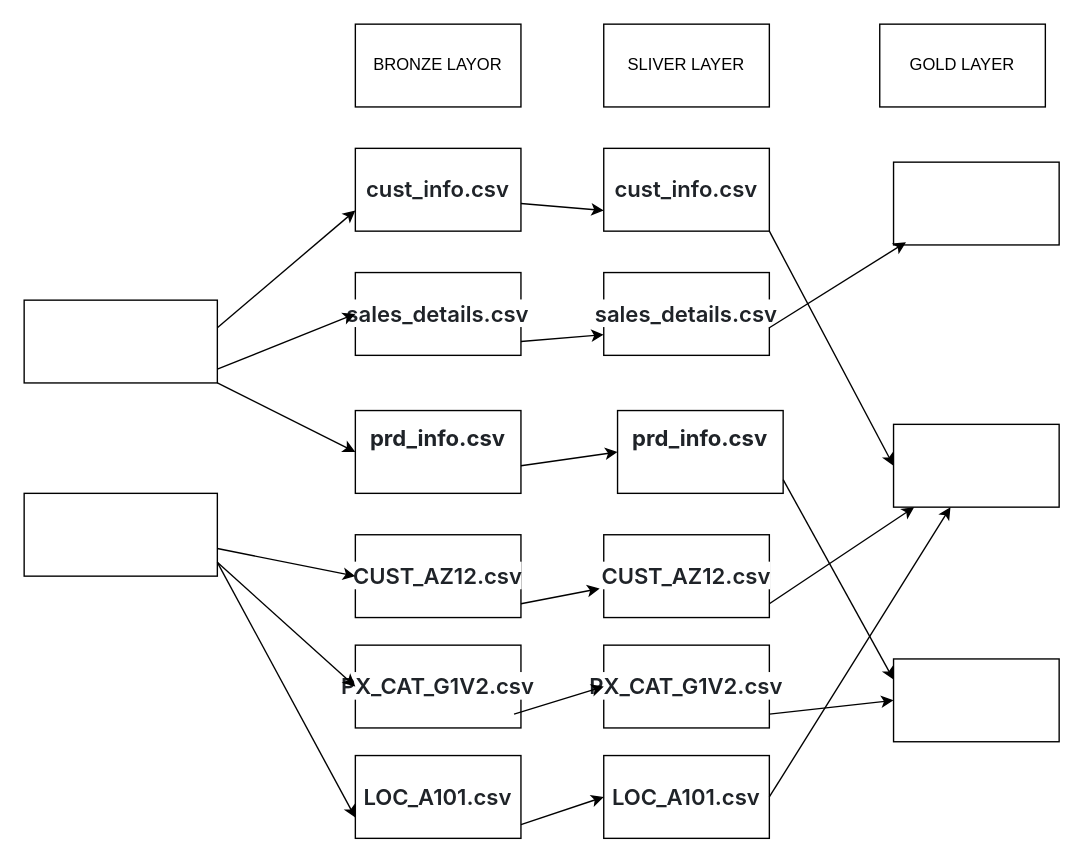
Image size: 1083x863. Some labels were removed from this diagram. The centre of each missing label's shape, as x and y in pixels:
"CRM" belongs at [120,341].
"dim_customers" belongs at [975,465].
"dim_products" belongs at [975,700].
"ERP" belongs at [120,534].
"fact_sales" belongs at [975,203].
